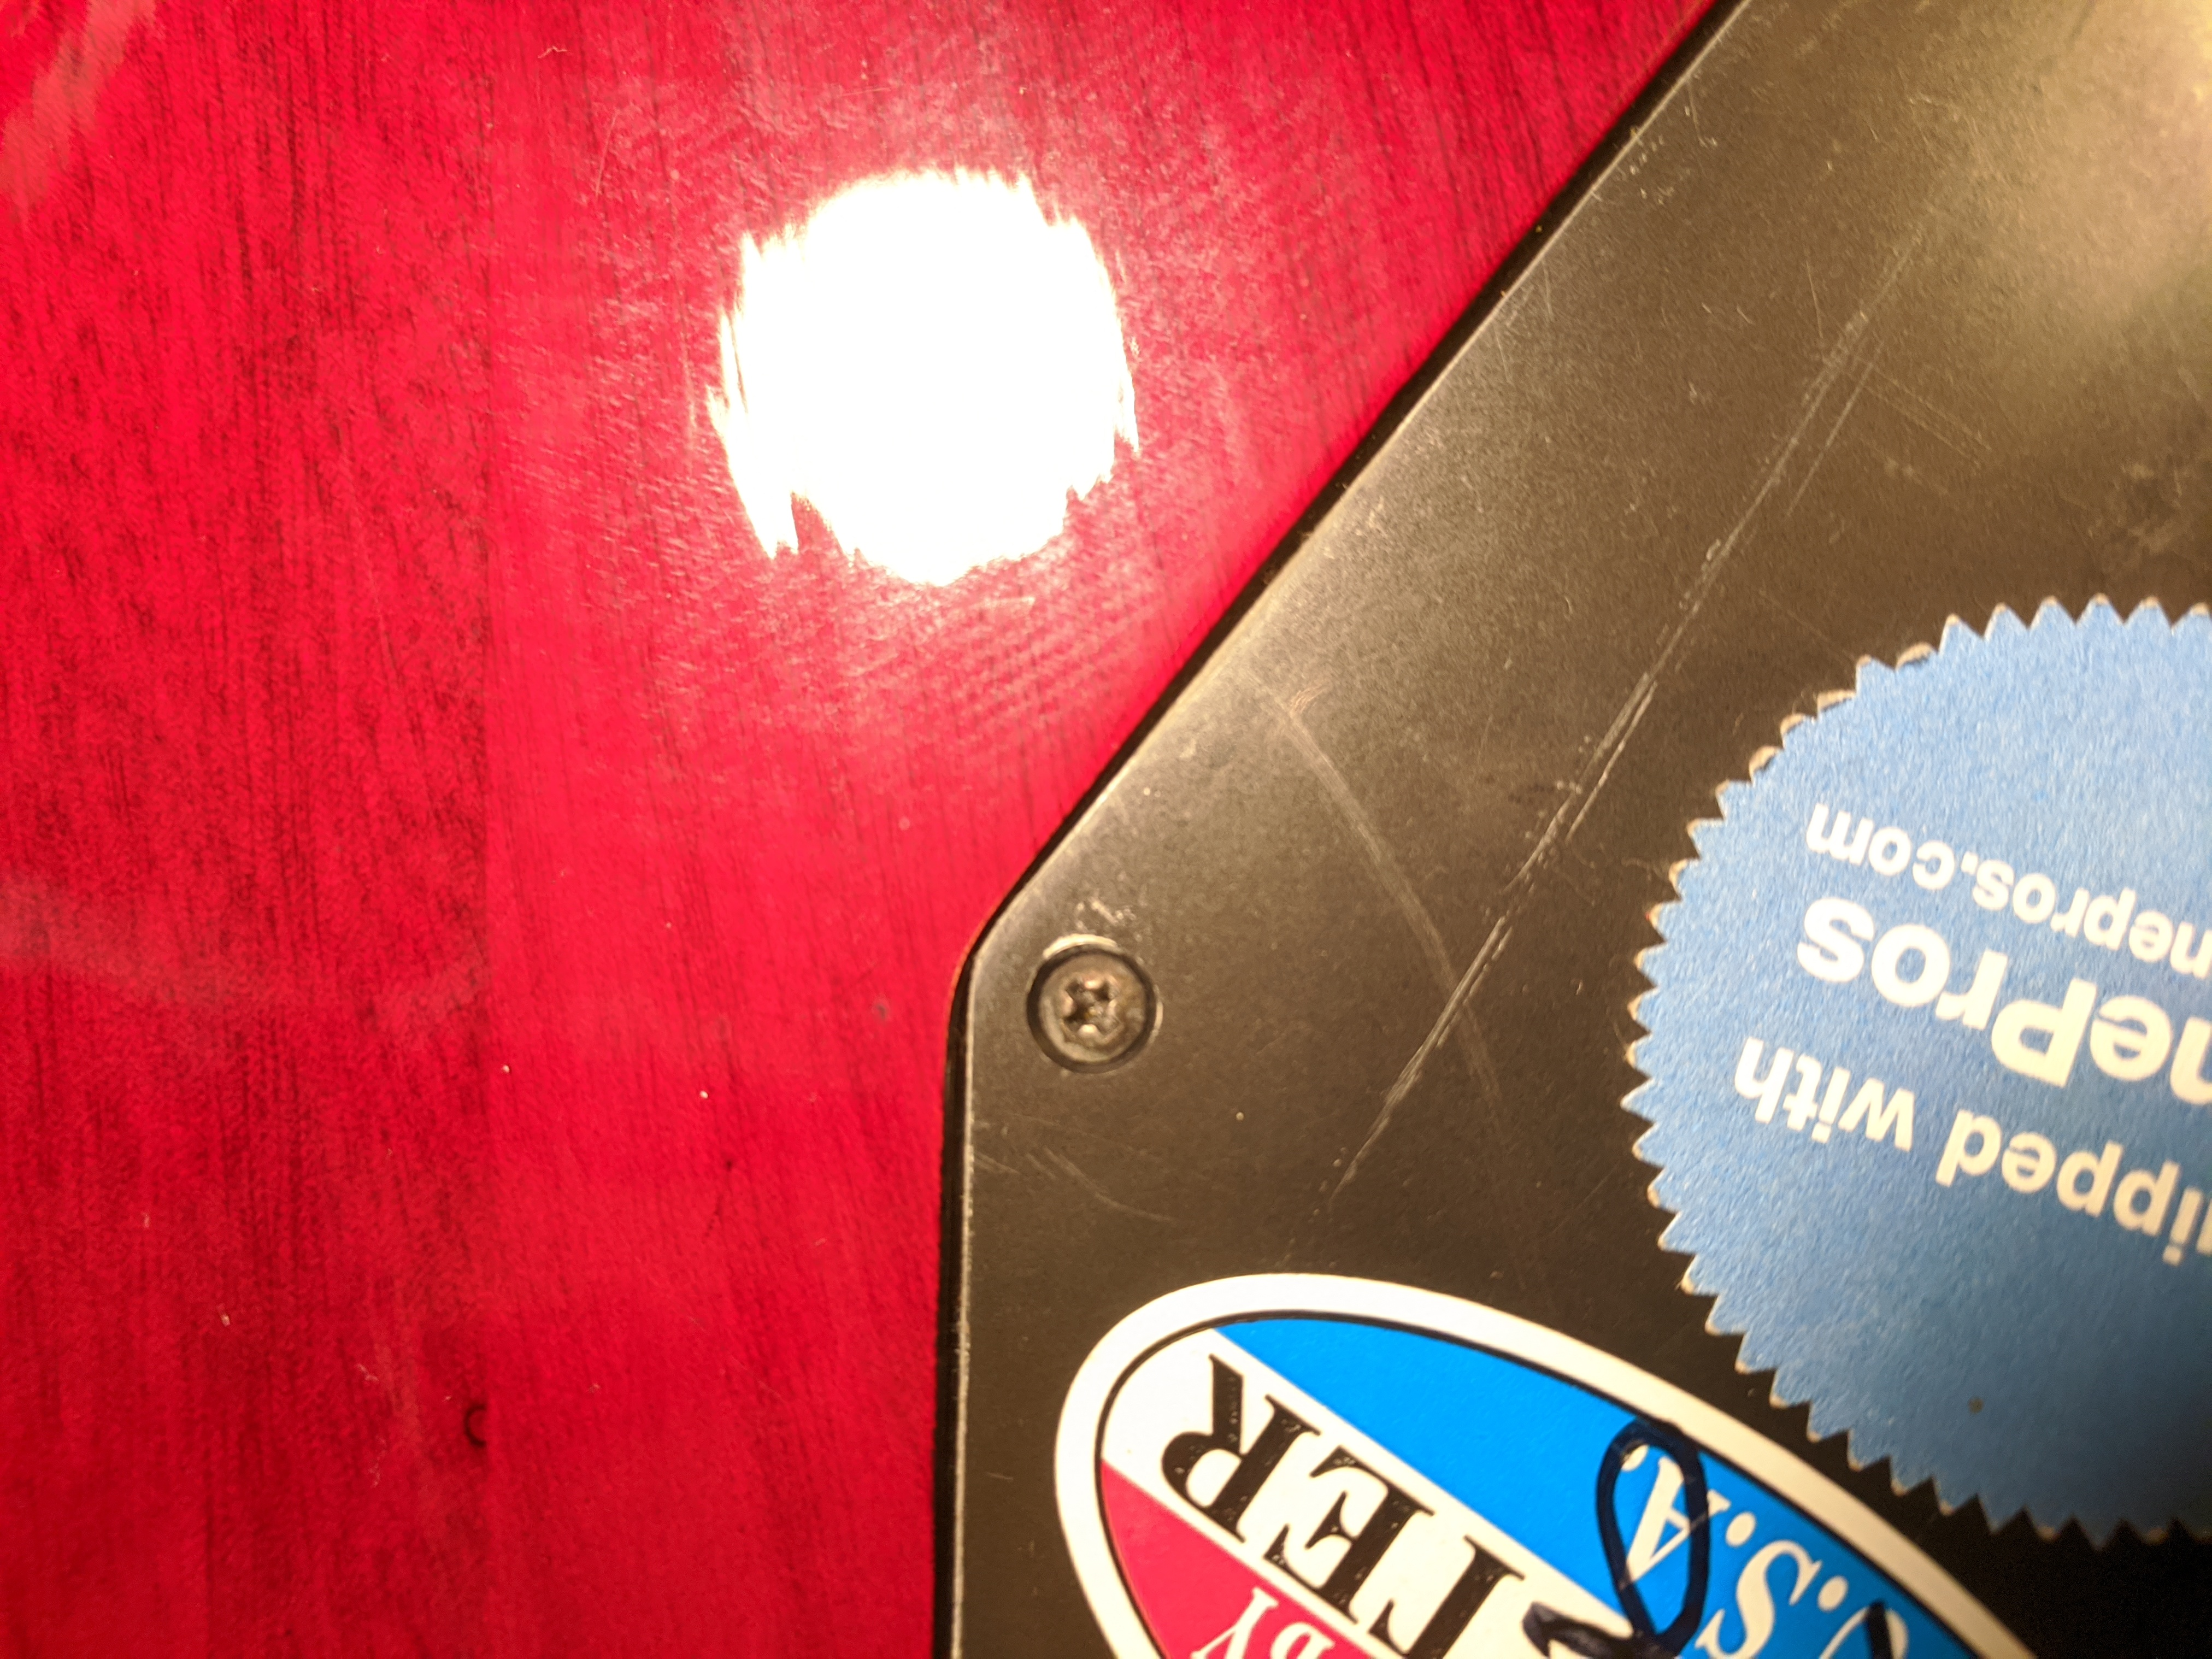cross_recessed_screw: (1022, 932, 1170, 1077)
